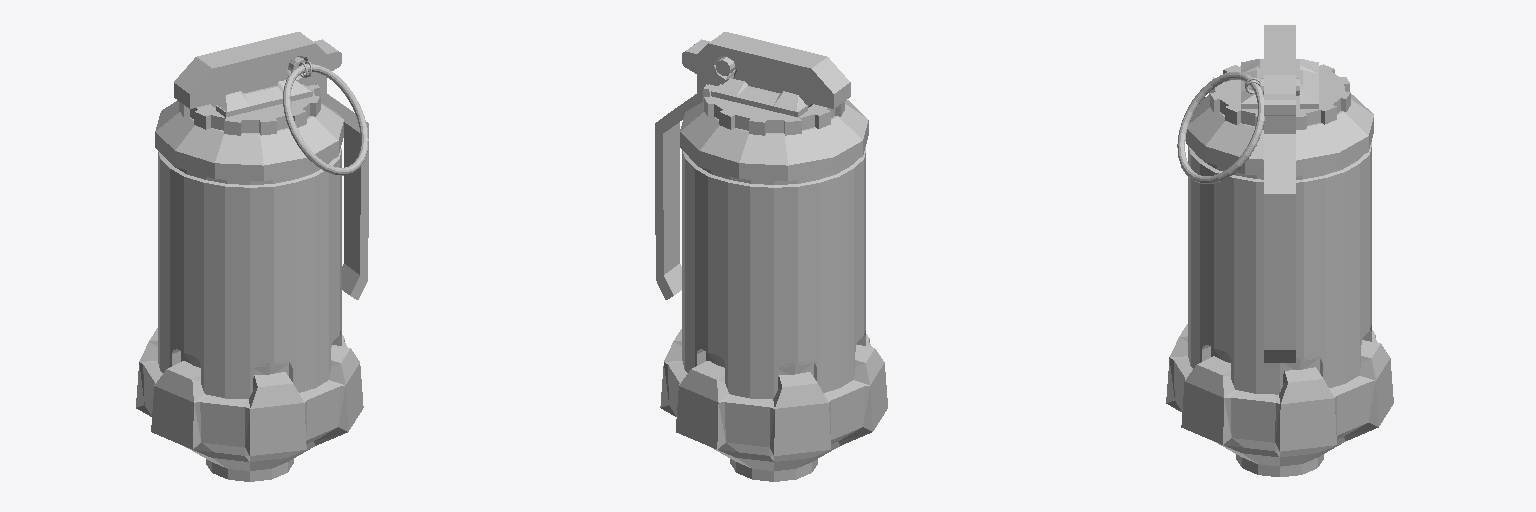
Rendered from grenade.obj.
The picture shows the model from 3 angles: view 1: azimuth 30°, elevation 25°; view 2: azimuth 150°, elevation 25°; view 3: azimuth 270°, elevation 25°; orthographic projection.
Visible parts, largest first — view 1: MainCylinder; view 2: MainCylinder; view 3: MainCylinder.
Boxes of the visible parts, <box> form: MainCylinder: <box>136,32,368,481</box>; MainCylinder: <box>655,32,887,481</box>; MainCylinder: <box>1166,25,1393,476</box>.
Bounding box in the file's own units: 14.74 × 27.65 × 13.86.